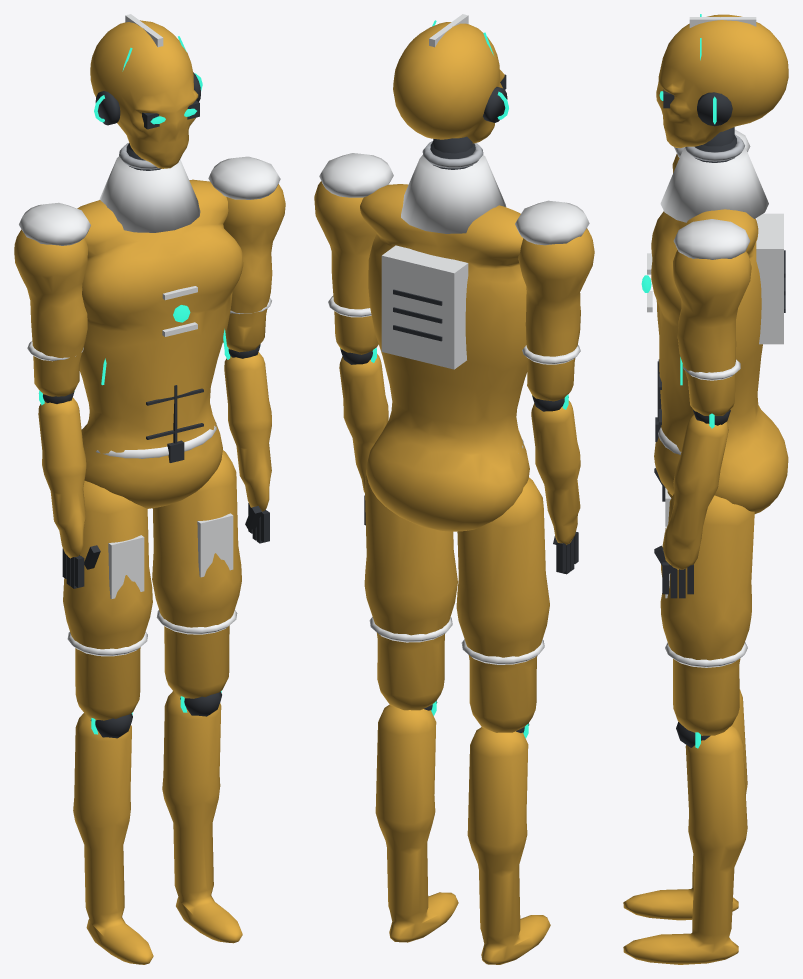
File: Char_Android_C.gltf
3 renders of one model, left to right at view 1: azimuth 30°, elevation 25°; view 2: azimuth 150°, elevation 25°; view 3: azimuth 270°, elevation 25°, orthographic. The views are drawn at different scales.
Parts seen in each view (by area): view 1: Char_Android_C, AndroidC_Leg_L, AndroidC_Leg_R, AndroidC_Head, AndroidC_Shin_L, AndroidC_Shin_R, AndroidC_Arm_R, AndroidC_Arm_L, AndroidC_Forearm_R, AndroidC_Forearm_L; view 2: Char_Android_C, AndroidC_Leg_R, AndroidC_Leg_L, AndroidC_Shin_L, AndroidC_Shin_R, AndroidC_Head, AndroidC_Arm_R, AndroidC_Arm_L, AndroidC_Forearm_R, AndroidC_Forearm_L; view 3: Char_Android_C, AndroidC_Leg_L, AndroidC_Head, AndroidC_Shin_L, AndroidC_Arm_L, AndroidC_Forearm_L, AndroidC_Shin_R.
Boxes of the visible parts, left/top/right/bottom form: Char_Android_C: left=77, top=143, right=243, bottom=508; AndroidC_Leg_L: left=152, top=450, right=241, bottom=698; AndroidC_Leg_R: left=63, top=481, right=152, bottom=720; AndroidC_Head: left=90, top=14, right=202, bottom=168; AndroidC_Shin_L: left=162, top=691, right=242, bottom=943; AndroidC_Shin_R: left=73, top=712, right=153, bottom=964; AndroidC_Arm_R: left=14, top=202, right=90, bottom=396; AndroidC_Arm_L: left=208, top=156, right=285, bottom=352; AndroidC_Forearm_R: left=38, top=390, right=100, bottom=588; AndroidC_Forearm_L: left=224, top=344, right=271, bottom=543; Char_Android_C: left=360, top=141, right=529, bottom=531; AndroidC_Leg_R: left=456, top=477, right=549, bottom=732; AndroidC_Leg_L: left=364, top=476, right=457, bottom=710; AndroidC_Shin_L: left=375, top=700, right=458, bottom=942; AndroidC_Shin_R: left=467, top=723, right=550, bottom=964; AndroidC_Head: left=393, top=14, right=508, bottom=153; AndroidC_Arm_R: left=515, top=200, right=594, bottom=401; AndroidC_Arm_L: left=314, top=153, right=393, bottom=354; AndroidC_Forearm_R: left=531, top=394, right=580, bottom=574; AndroidC_Forearm_L: left=339, top=348, right=388, bottom=525; Char_Android_C: left=641, top=134, right=788, bottom=513; AndroidC_Leg_L: left=660, top=493, right=754, bottom=735; AndroidC_Head: left=656, top=14, right=788, bottom=148; AndroidC_Shin_L: left=623, top=722, right=747, bottom=964; AndroidC_Arm_L: left=673, top=219, right=751, bottom=415; AndroidC_Forearm_L: left=654, top=410, right=730, bottom=598; AndroidC_Shin_R: left=623, top=689, right=747, bottom=920.
Bounding box in the file's own units: 0.5544 × 1.83 × 0.2982.
